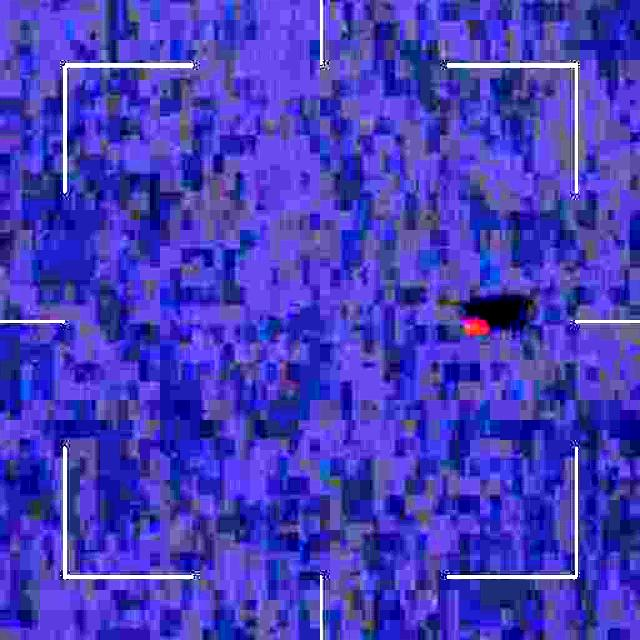bird: (459, 296, 494, 351)
